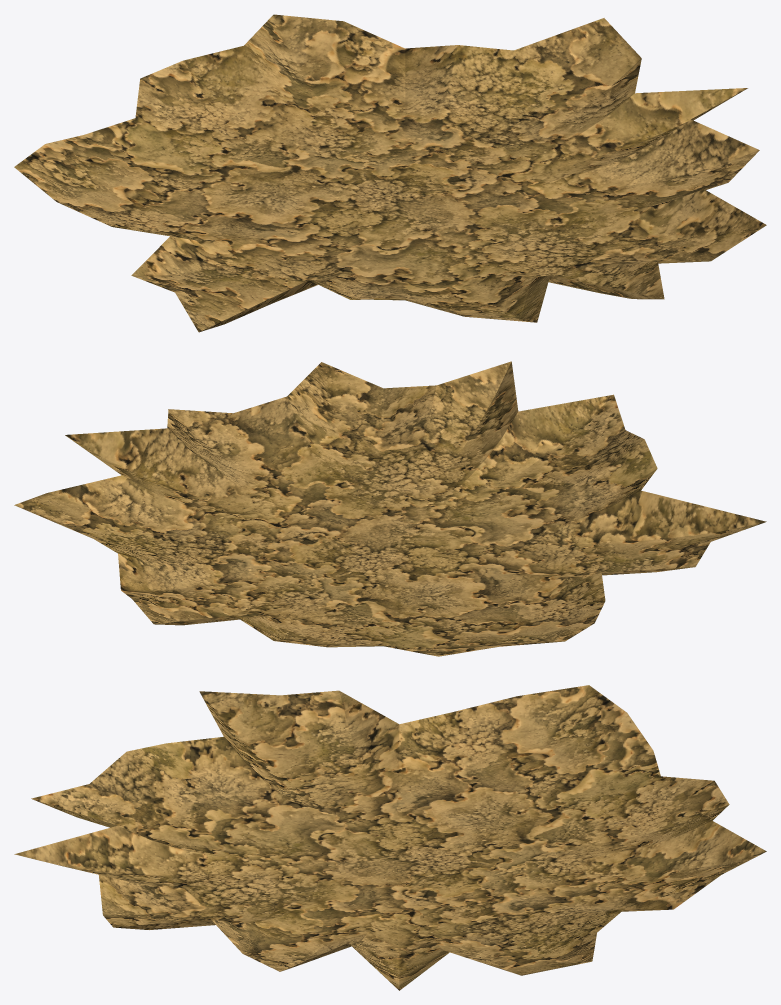
Rendered from lichen_crust_v02.fbx.
The picture shows the model from 3 angles, top to bottom: view 1: azimuth 30°, elevation 25°; view 2: azimuth 150°, elevation 25°; view 3: azimuth 270°, elevation 25°; orthographic projection. The views are drawn at different scales.
Visible parts, largest first — view 1: lichen_crust_v02; view 2: lichen_crust_v02; view 3: lichen_crust_v02.
Part boxes in pixels (x1,y1,x2,y2): lichen_crust_v02: (14,14,766,332); lichen_crust_v02: (14,361,766,656); lichen_crust_v02: (14,685,766,990).
Size of the model in its own units: 48.59 by 3.29 by 50.03.
Materials: 1 (1 with a texture image).
